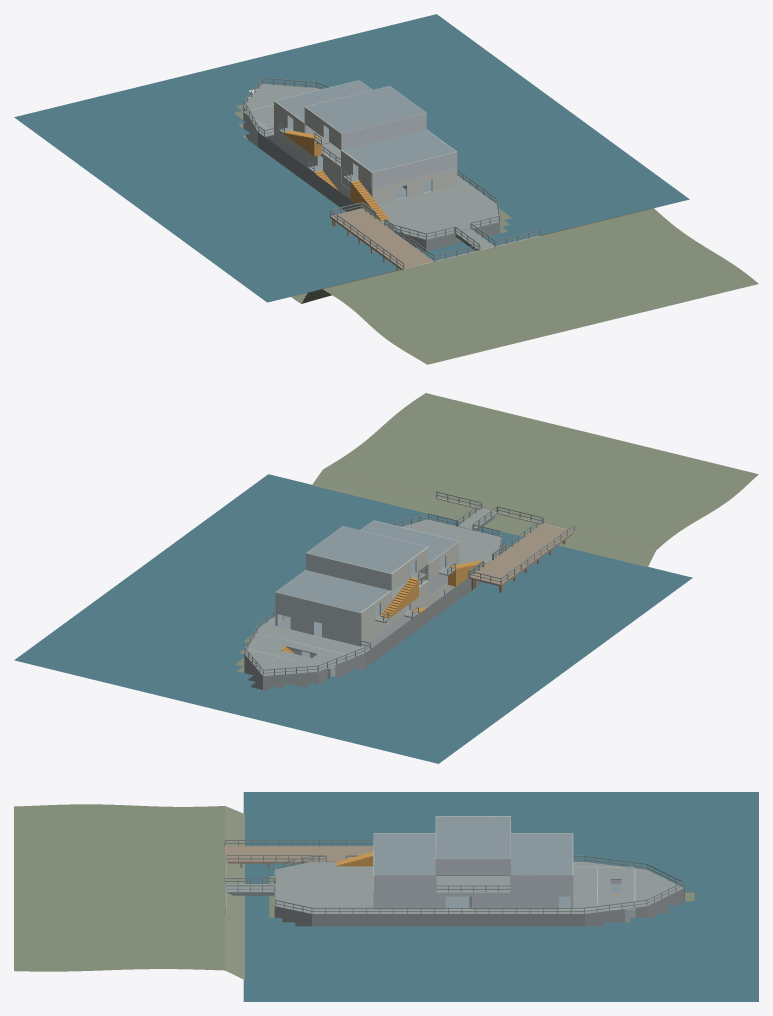
The model's file is coast-entrances.glb.
3 views of the same model, one above another, from view 1: azimuth 30°, elevation 25°; view 2: azimuth 150°, elevation 25°; view 3: azimuth 270°, elevation 25° (orthographic).
Visible parts, largest first — view 1: WATER PLACEHOLDER / layers and transparency pending, Authored quay terrain, Saint Elara joined aft starboard and fore weather deck regio, Ceiling cap bridge, Pointed retired vessel hull / empty interior, Ceiling cap crew, Saint Elara port work pier region0, Wall crew S, Wall bridge S, Ceiling cap net; view 2: WATER PLACEHOLDER / layers and transparency pending, Authored quay terrain, Saint Elara joined aft starboard and fore weather deck regio, Pointed retired vessel hull / empty interior, Ceiling cap bridge, Ceiling cap net, Saint Elara port work pier region0, Wall bridge N, Wall net N, Ceiling cap crew, Flat route shell Wall processing N; view 3: WATER PLACEHOLDER / layers and transparency pending, Authored quay terrain, Saint Elara joined aft starboard and fore weather deck regio, Pointed retired vessel hull / empty interior, Ceiling cap bridge, Ceiling cap crew, Ceiling cap net, Saint Elara port work pier region0, Flat route shell Wall processing E, Wall bridge E, Saint Elara processing deck head and upper weather deck regi, Wall net E (+5 smaller).
Boxes of the visible parts, x1,y1,x2,y2 form: WATER PLACEHOLDER / layers and transparency pending: [14, 14, 689, 302]; Authored quay terrain: [234, 104, 758, 364]; Saint Elara joined aft starboard and fore weather deck regio: [244, 83, 500, 240]; Ceiling cap bridge: [305, 86, 425, 133]; Pointed retired vessel hull / empty interior: [243, 83, 500, 251]; Ceiling cap crew: [343, 130, 455, 171]; Saint Elara port work pier region0: [330, 208, 433, 269]; Wall crew S: [372, 151, 456, 188]; Wall bridge S: [341, 113, 426, 149]; Ceiling cap net: [275, 80, 371, 122]; WATER PLACEHOLDER / layers and transparency pending: [14, 474, 692, 763]; Authored quay terrain: [235, 393, 758, 686]; Saint Elara joined aft starboard and fore weather deck regio: [244, 519, 502, 676]; Pointed retired vessel hull / empty interior: [244, 519, 502, 690]; Ceiling cap bridge: [307, 526, 426, 573]; Ceiling cap net: [276, 570, 389, 612]; Saint Elara port work pier region0: [469, 524, 574, 586]; Wall bridge N: [306, 553, 391, 590]; Wall net N: [275, 592, 360, 629]; Ceiling cap crew: [361, 520, 458, 562]; Flat route shell Wall processing N: [322, 620, 360, 646]; WATER PLACEHOLDER / layers and transparency pending: [243, 792, 758, 1001]; Authored quay terrain: [14, 804, 694, 979]; Saint Elara joined aft starboard and fore weather deck regio: [274, 861, 683, 914]; Pointed retired vessel hull / empty interior: [274, 861, 684, 926]; Ceiling cap bridge: [436, 816, 510, 858]; Ceiling cap crew: [374, 833, 435, 875]; Ceiling cap net: [511, 833, 572, 875]; Saint Elara port work pier region0: [225, 846, 372, 863]; Flat route shell Wall processing E: [436, 892, 572, 909]; Wall bridge E: [436, 858, 510, 875]; Saint Elara processing deck head and upper weather deck regi: [436, 876, 510, 891]; Wall net E: [510, 875, 572, 892].
Bounding box in the file's own units: 80 × 14.77 × 120.
